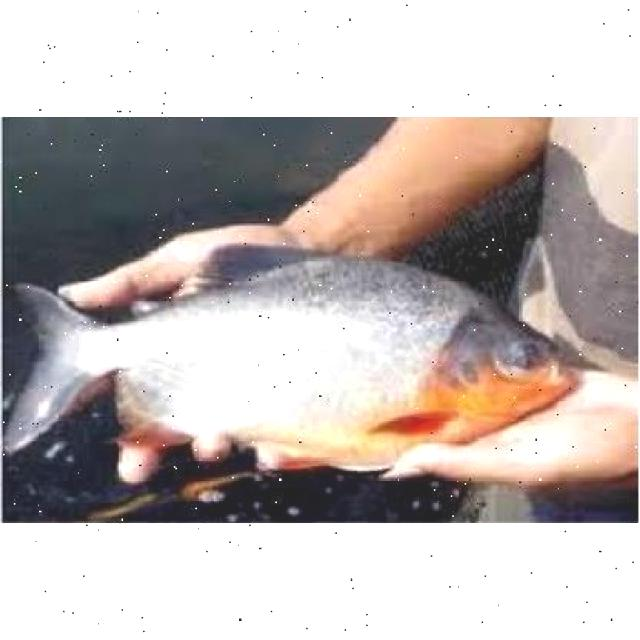ikan-pacu: (4, 245, 574, 472)
